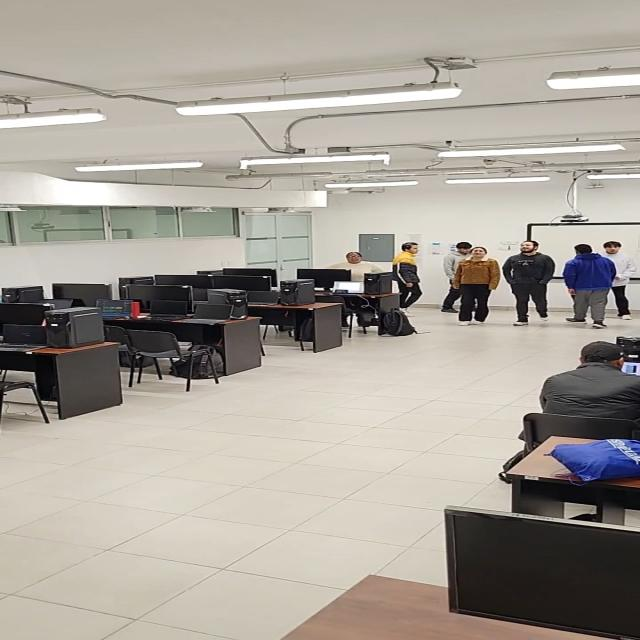Persona: (502, 235, 555, 328), (562, 243, 609, 334), (458, 247, 497, 326), (604, 242, 640, 320), (388, 244, 423, 318), (444, 240, 471, 310)
